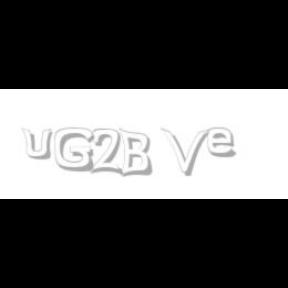2: (88, 128, 122, 176)
B: (118, 128, 152, 178)
G: (54, 128, 94, 172)
V: (161, 128, 209, 176)
e: (208, 128, 240, 158)
u: (21, 128, 56, 160)
